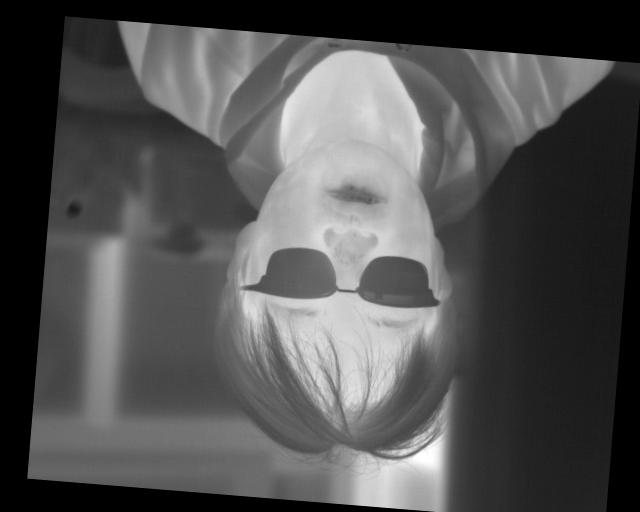face: (207, 130, 472, 470)
